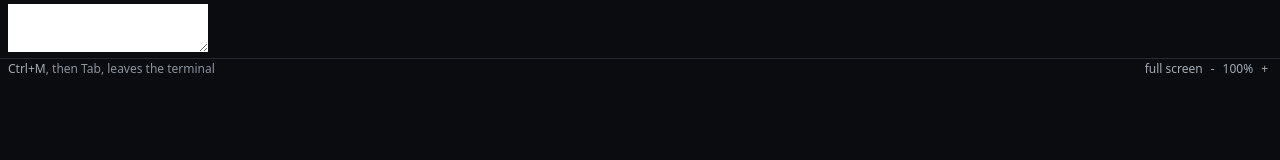
Test: TerminalPane text size › steps the text by tenths of 13px, keeps it for the viewer, and refits
This screenshot has width=1280, height=160.
Click the button named "zoom in". click: (1265, 69)
box: [1257,61,1272,77]
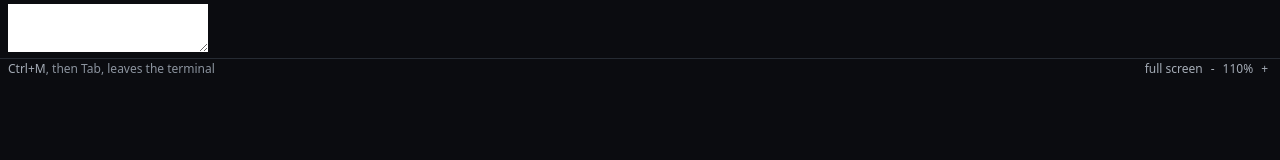
Result: the button named "reset zoom (currently 110 percent)" reads "110%" at [1218,61,1257,77]
